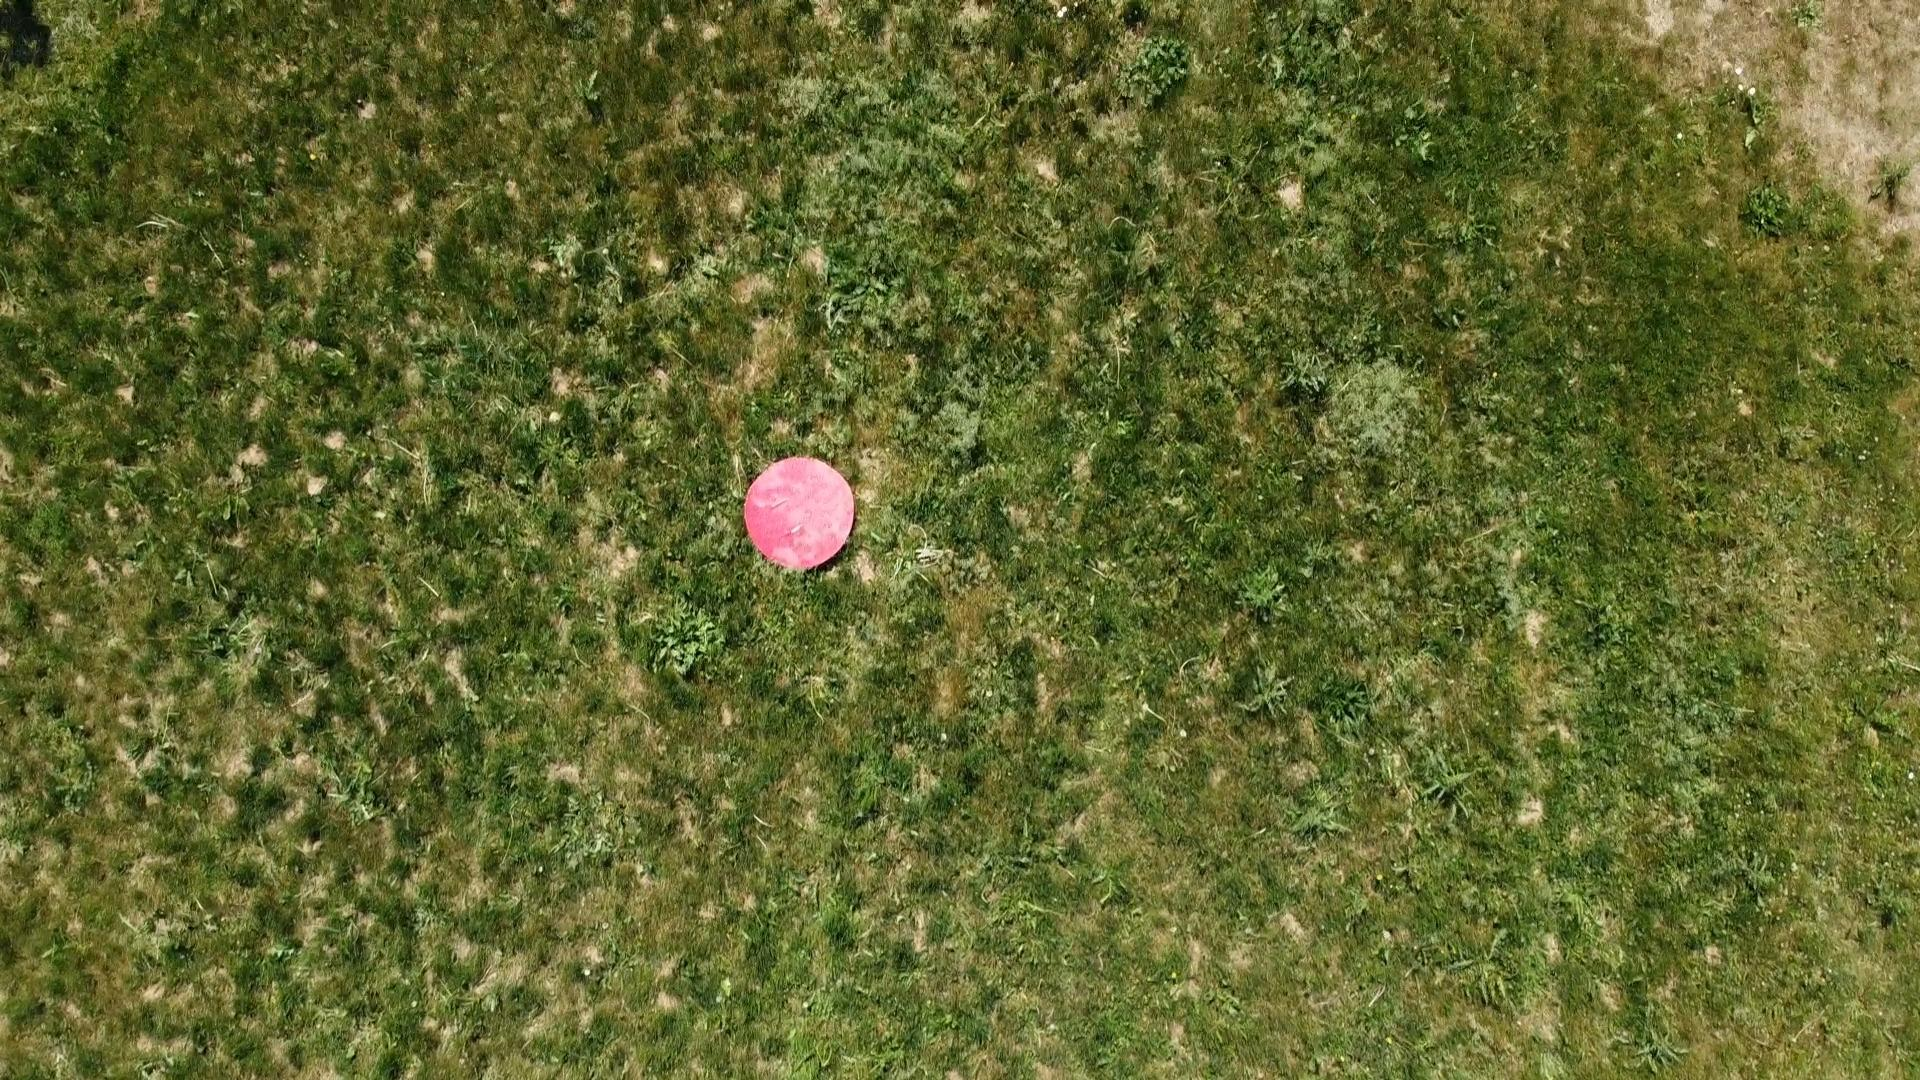Red: (740, 452, 858, 576)
